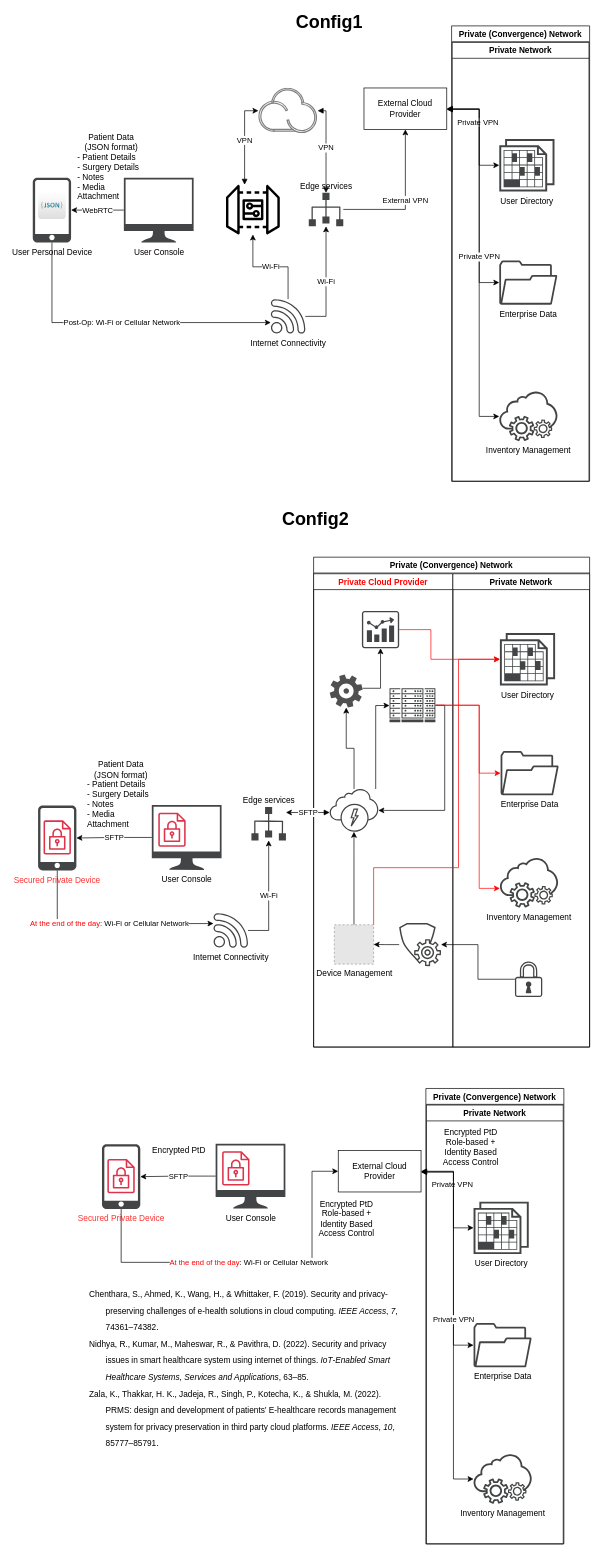
This 602x1556 diagram has some shape labels left out. Grey dashed boxes stand in for pictures. Here are the shapes that lost their labels. From the top down, the centre of each, then its label:
the point at 287,110: Peer Cloud
the point at 252,209: IoT Gateway
the point at 380,629: Faster Viz and Analytics
the point at 345,690: Application Logic
the point at 412,705: Data Storage
the point at 353,810: IoT Transformation & Connectivity
the point at 420,944: Device Identity Service
the point at 528,979: Device Registry
